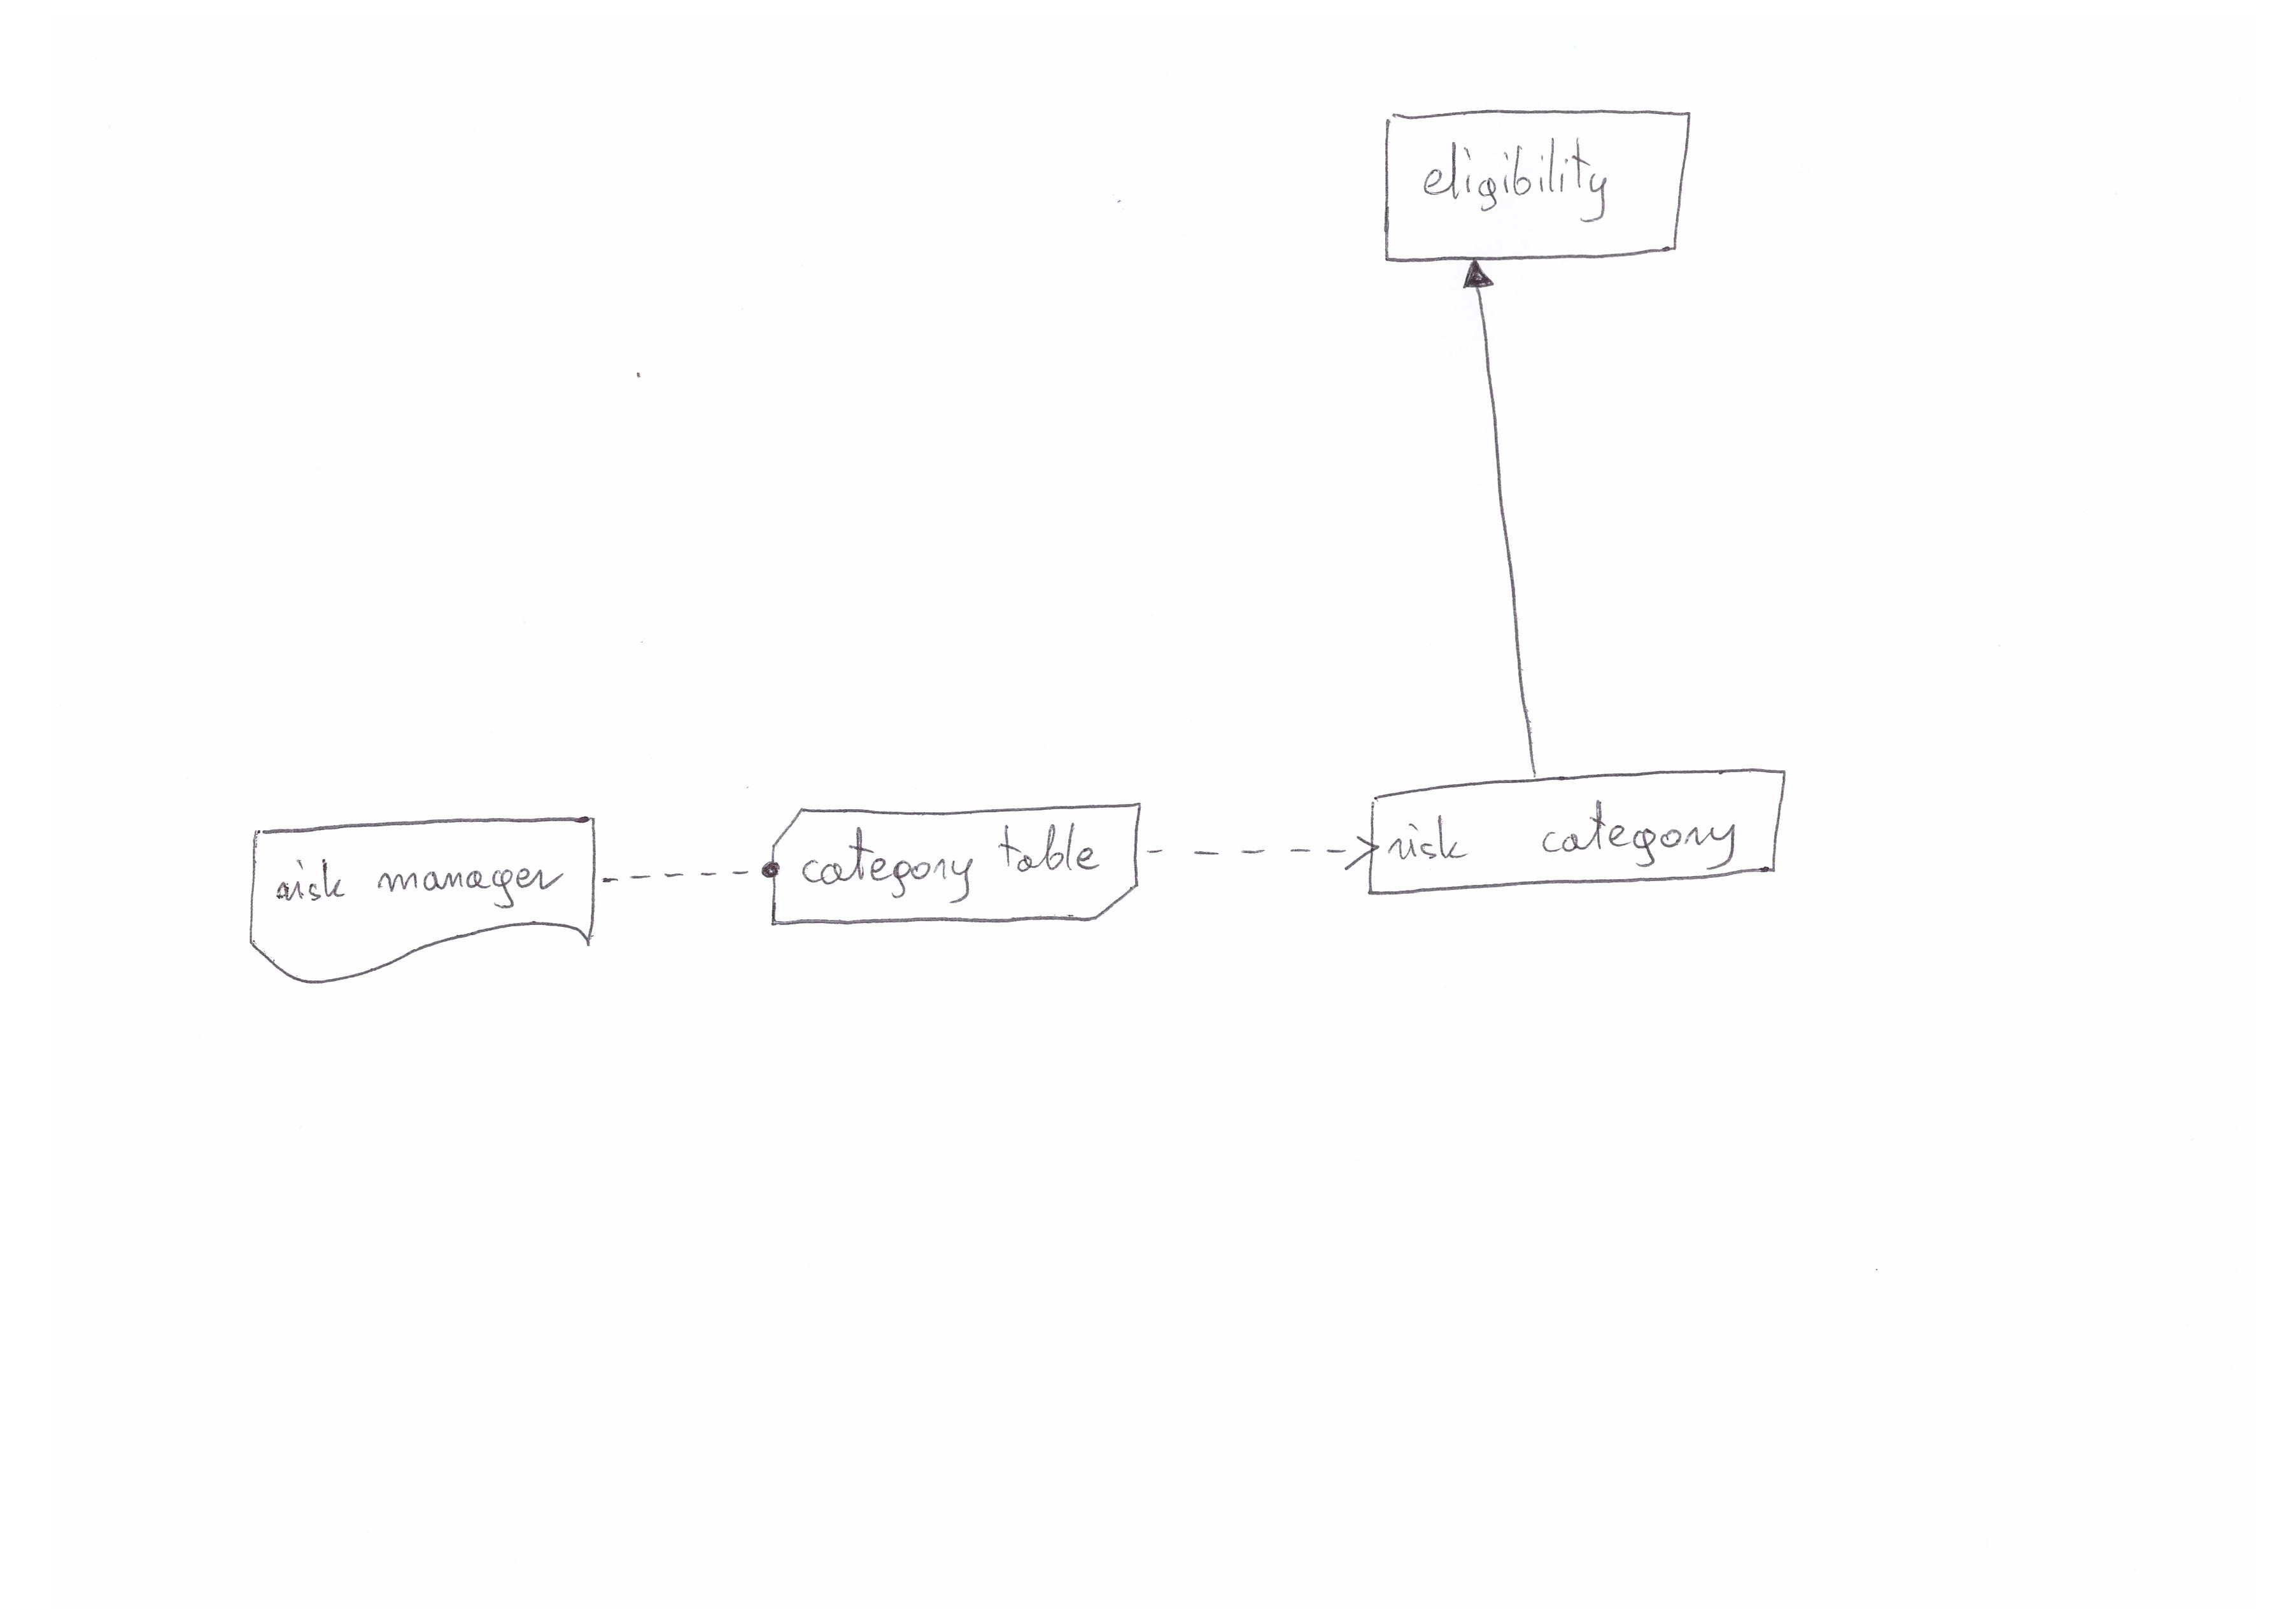arrow_authority_requirement: (594, 842, 784, 903)
arrow_information_requirement: (1443, 257, 1560, 779)
arrow_knowledge_requirement: (1139, 830, 1385, 884)
node_decision: (1364, 763, 1791, 903), (1372, 100, 1692, 265)
node_knowledge_model: (770, 796, 1151, 933)
node_knowledge_source: (228, 807, 604, 997)
text: (796, 823, 1109, 909), (1409, 125, 1634, 236), (1381, 805, 1752, 872), (260, 845, 580, 921)
